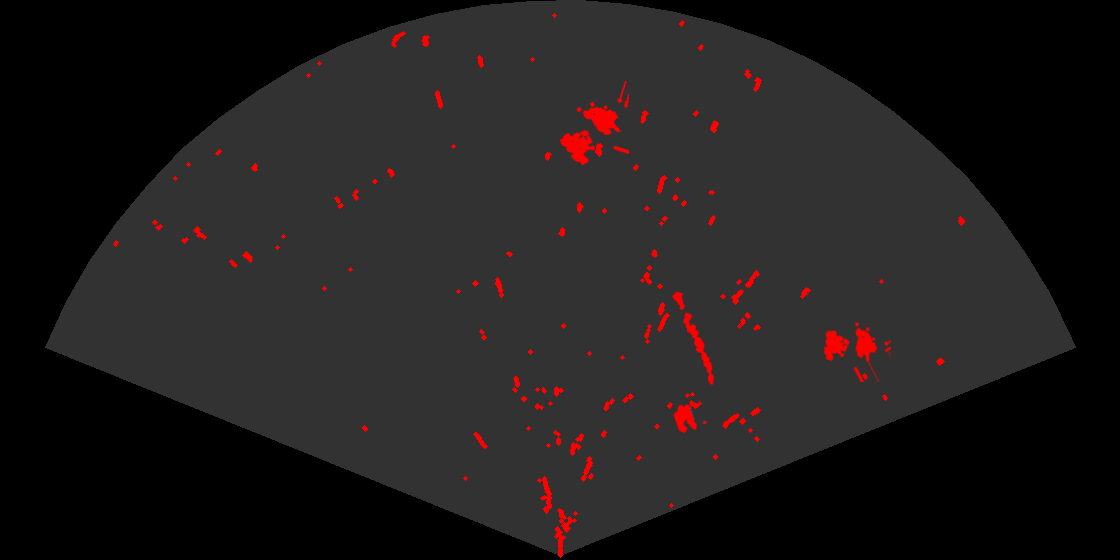ball: (672, 401, 708, 435)
cage: (558, 81, 629, 167), (822, 321, 891, 382)
chain: (671, 289, 716, 386)
